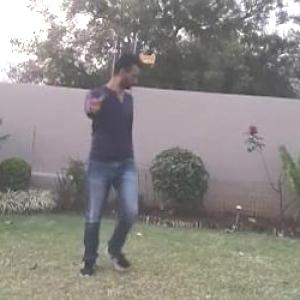takeoff-hand: (78, 86, 114, 122)
